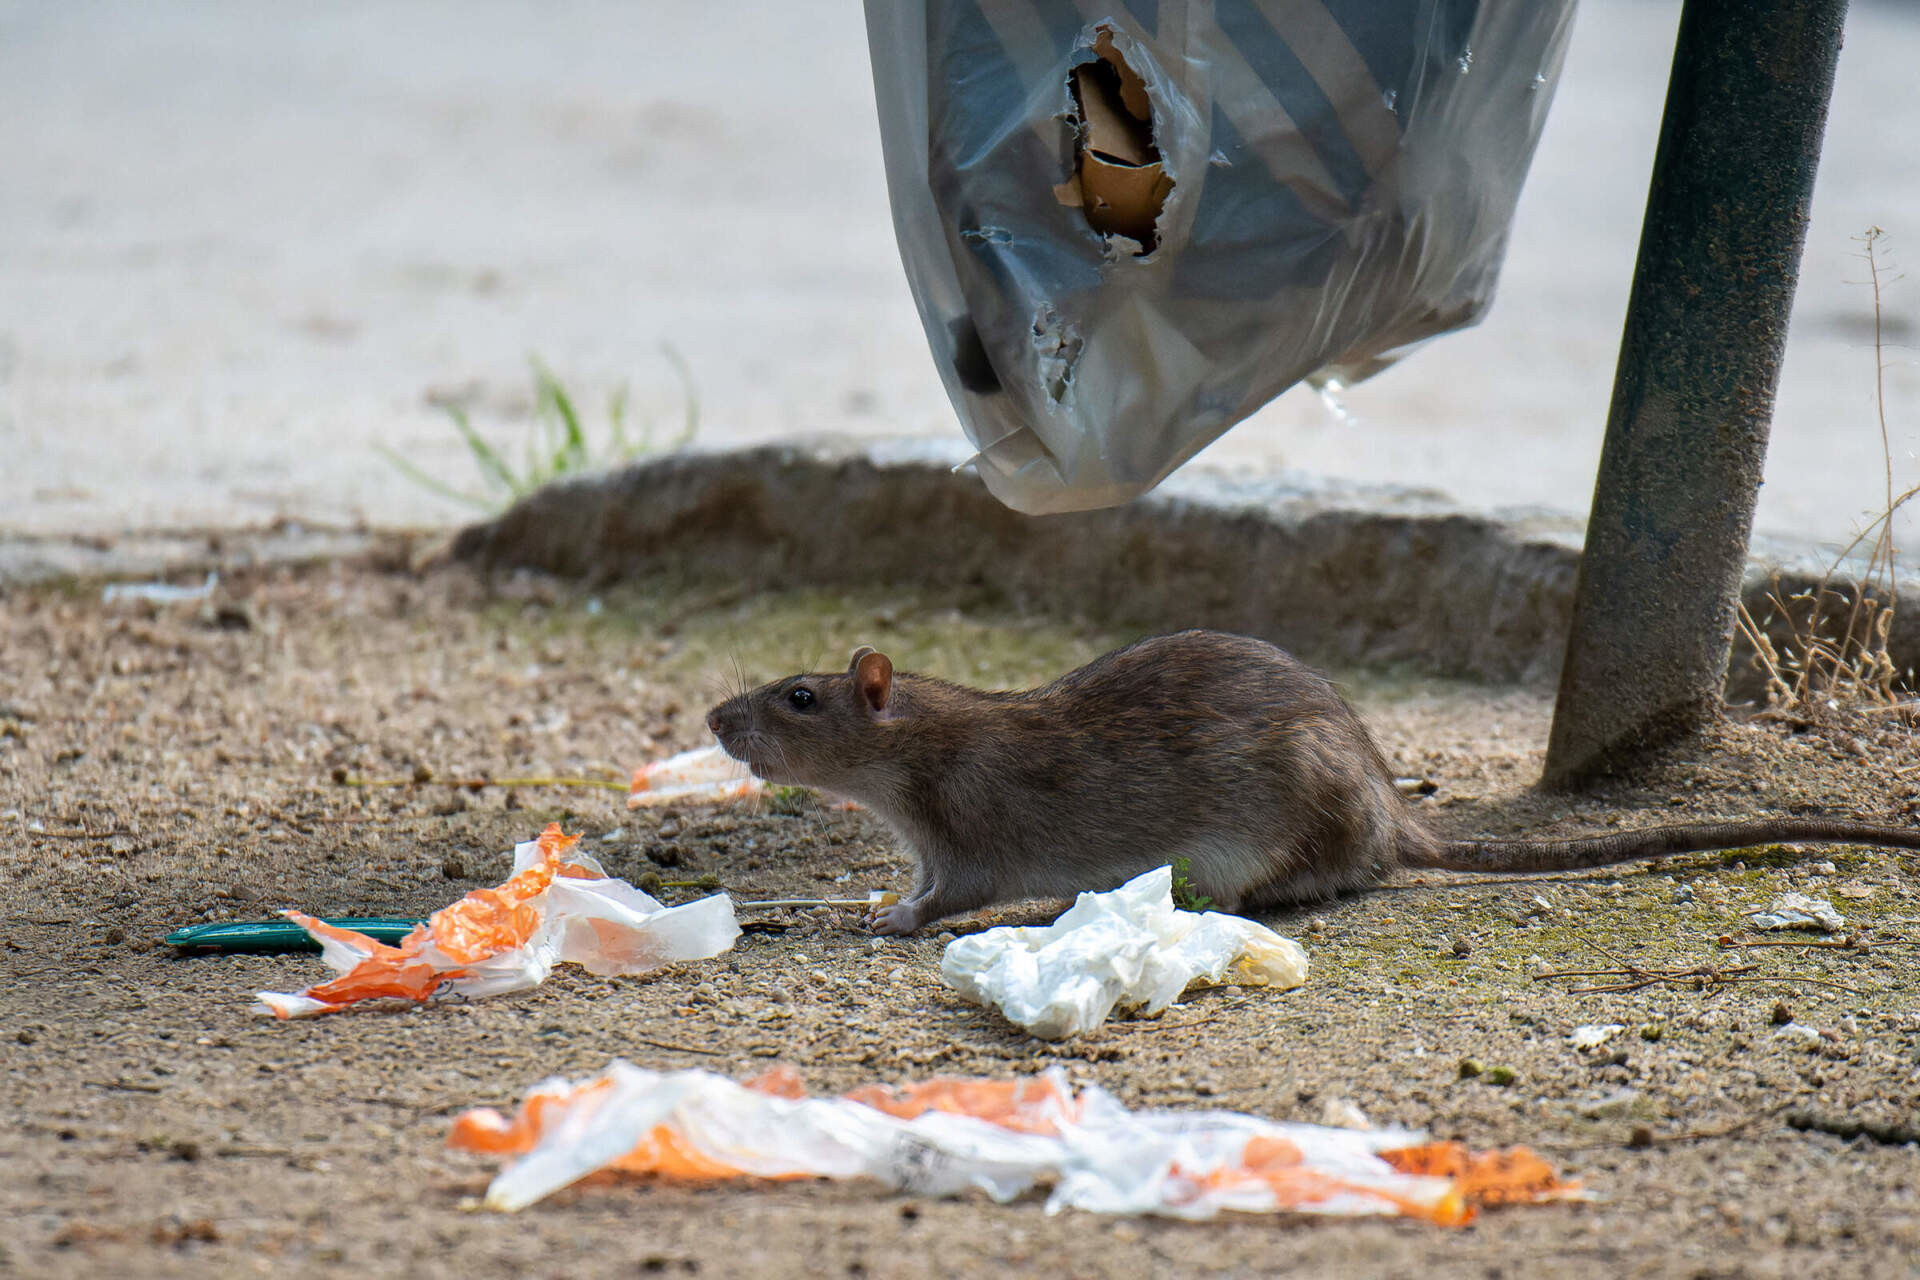rat: (701, 624, 1919, 941)
